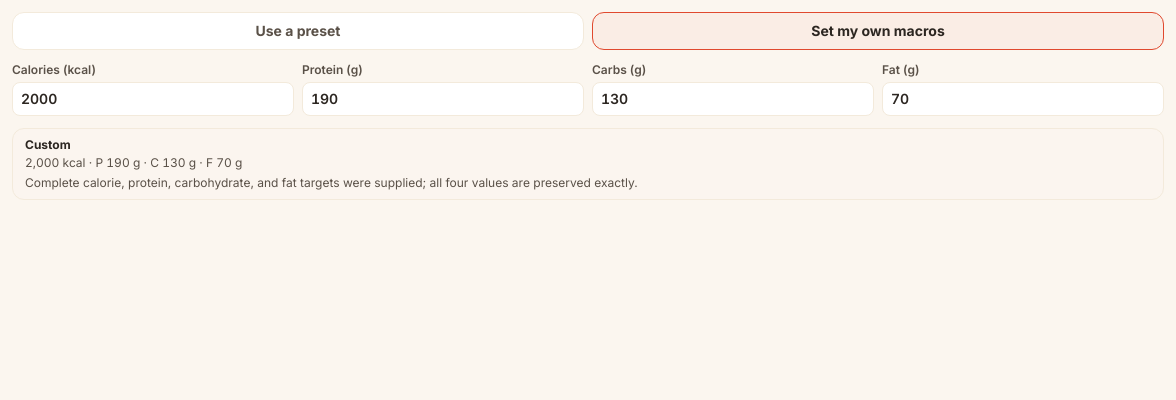
Test case: MacroTargetEditor preset confirmation › applies the pending preset only after confirmation
The width and height of the screenshot is (1176, 400).
Click the button "Use a preset" at [298, 31], box [12,12,584,50]
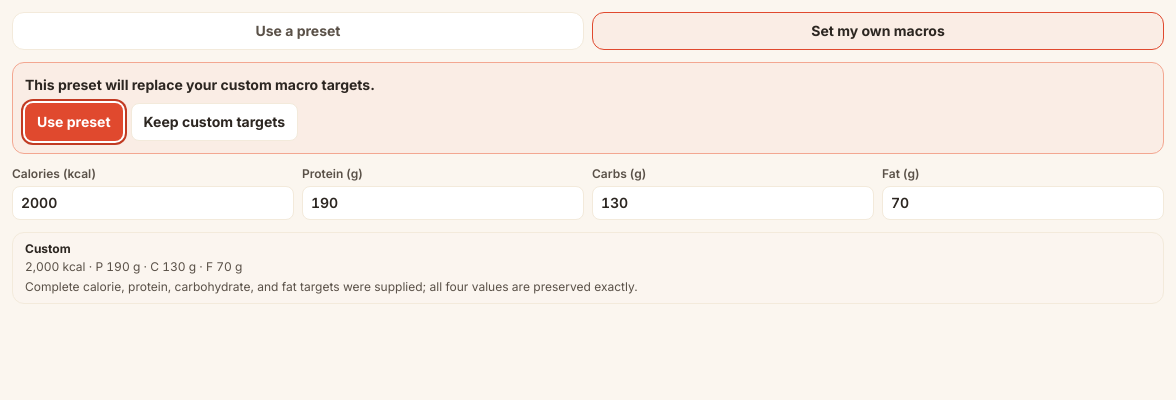
Expected: the number field labelled "Protein (g)" holds "190", [302,186,584,220]
Click the button "Use preset" at [74, 122], box [25,103,123,141]
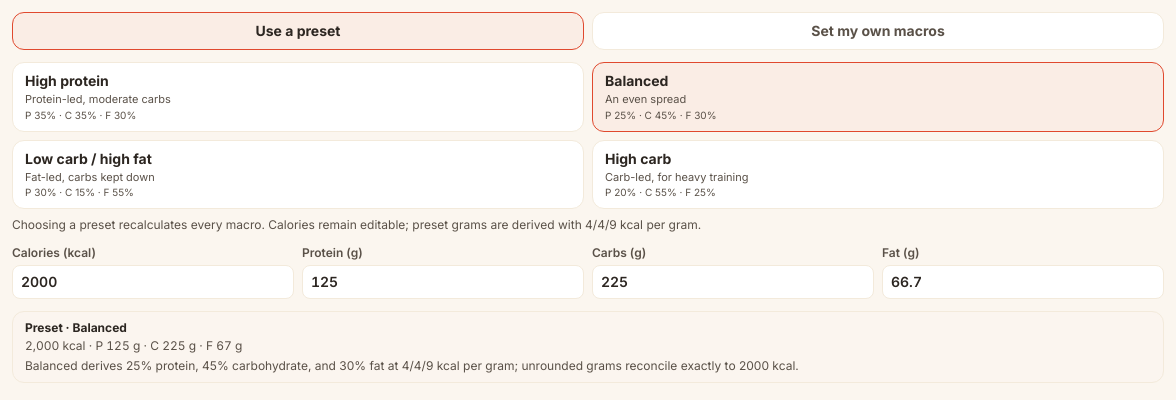
Now the message is gone
Now the element with test id "resolved-target" shows "Preset · Balanced", box [25,320,127,335]
Now the number field labelled "Protein (g)" holds "125", box [302,265,584,299]
